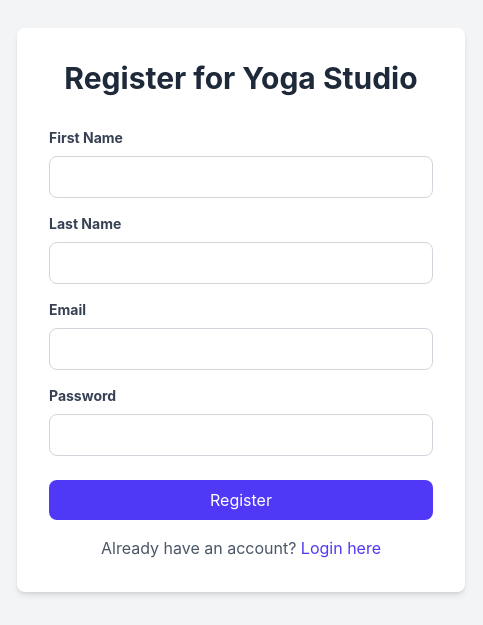
Test: Register page › shows server validation errors next to their fields
The width and height of the screenshot is (483, 625).
Type "Yoga" into the field labelled "First Name".
click(241, 177); type("Yoga")  # box 49,156 -> 433,198
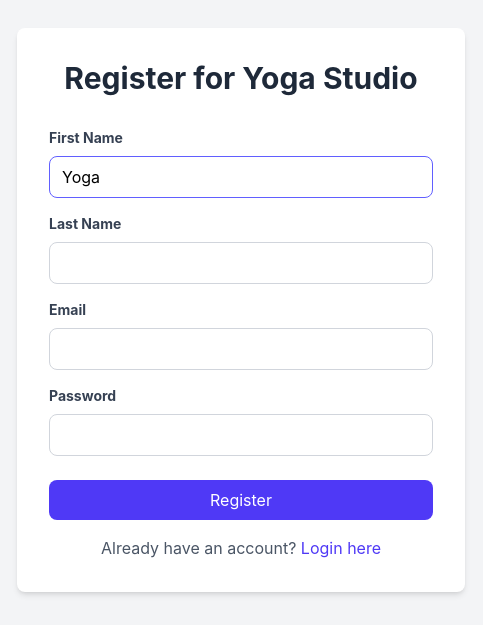
Type "Member" into the field labelled "Last Name".
click(241, 263); type("Member")  # box 49,242 -> 433,284
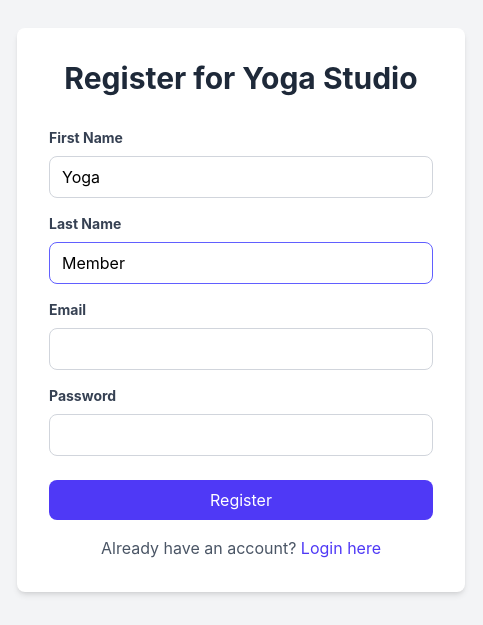
Type "member@example.com" into the field labelled "Email".
click(241, 349); type("member@example.com")  # box 49,328 -> 433,370
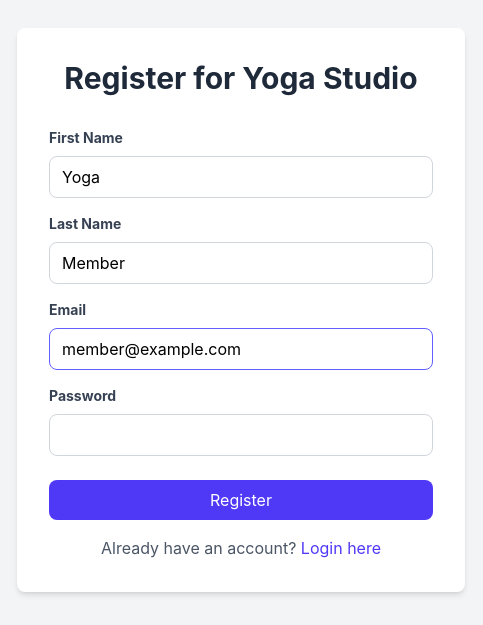
Type "Secret123!" into the password field labelled "Password".
click(241, 435); type("Secret123!")  # box 49,414 -> 433,456
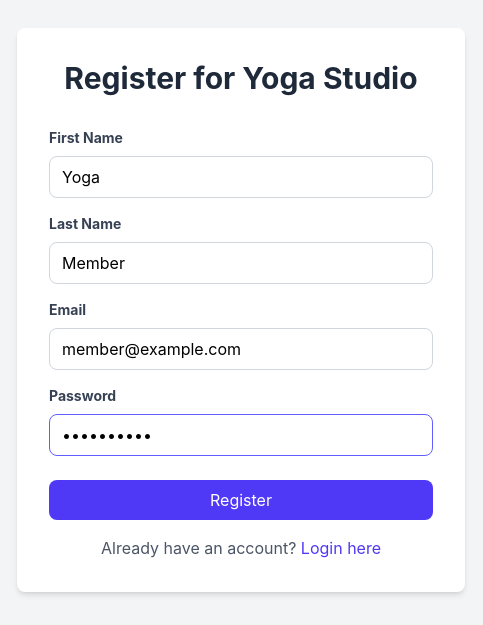
Click the button "Register".
click(241, 500)  # box 49,480 -> 433,520
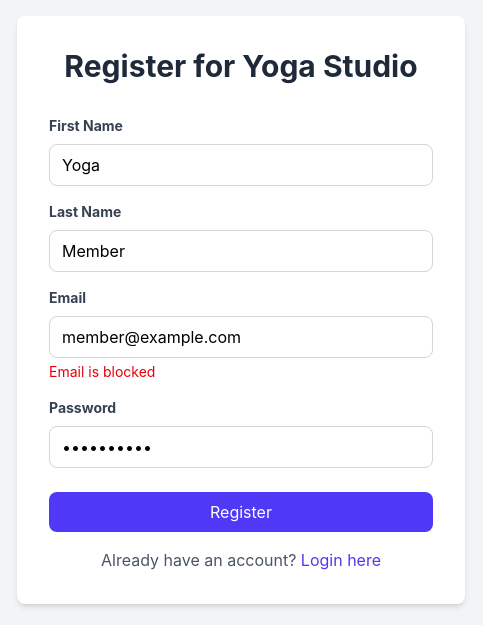
Expected: the button "Register" is enabled, 49,492 -> 433,532
Expected: the message reads "Email is blocked", 49,363 -> 155,380
